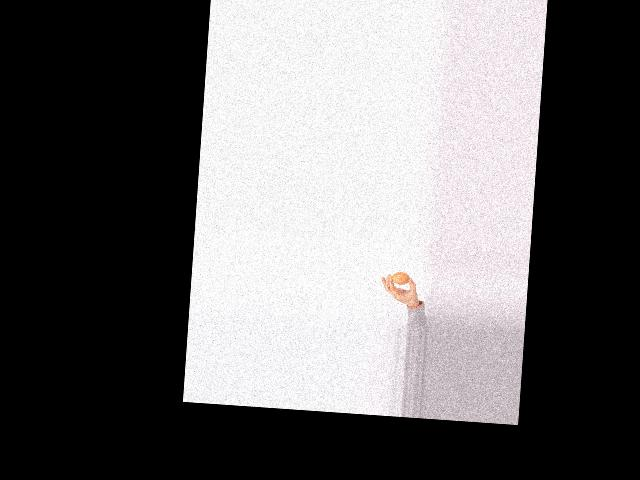egg: (391, 271, 409, 284)
